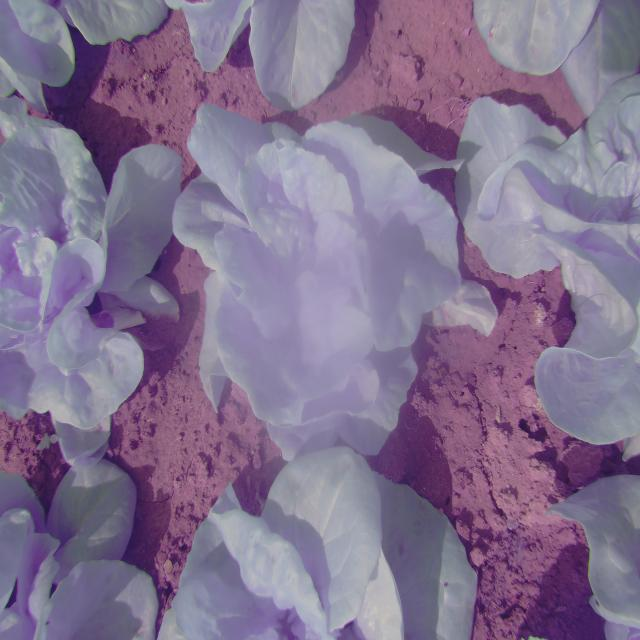vege: (170, 98, 462, 464)
